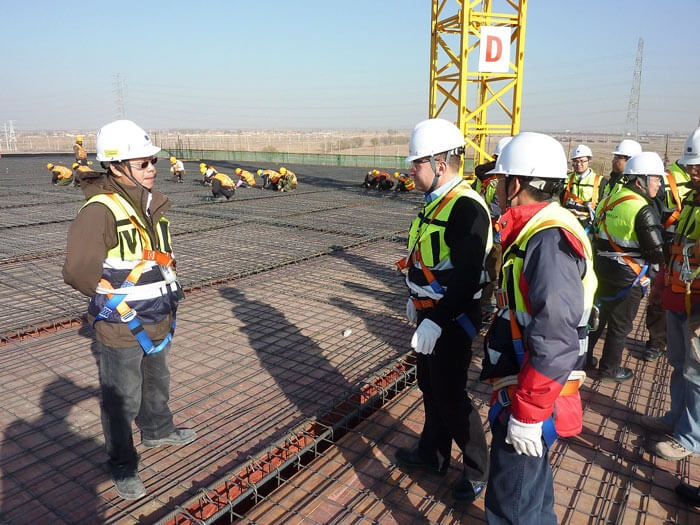white: (498, 132, 568, 210), (96, 119, 157, 189), (411, 117, 463, 192), (624, 150, 661, 195), (681, 128, 700, 186), (611, 139, 640, 170), (570, 144, 593, 173), (205, 169, 215, 179)
yellow: (74, 135, 83, 145), (71, 161, 80, 170), (279, 166, 286, 176), (169, 156, 176, 165), (46, 162, 53, 171), (256, 169, 263, 177), (234, 168, 241, 176), (199, 161, 206, 169), (393, 171, 399, 178)
